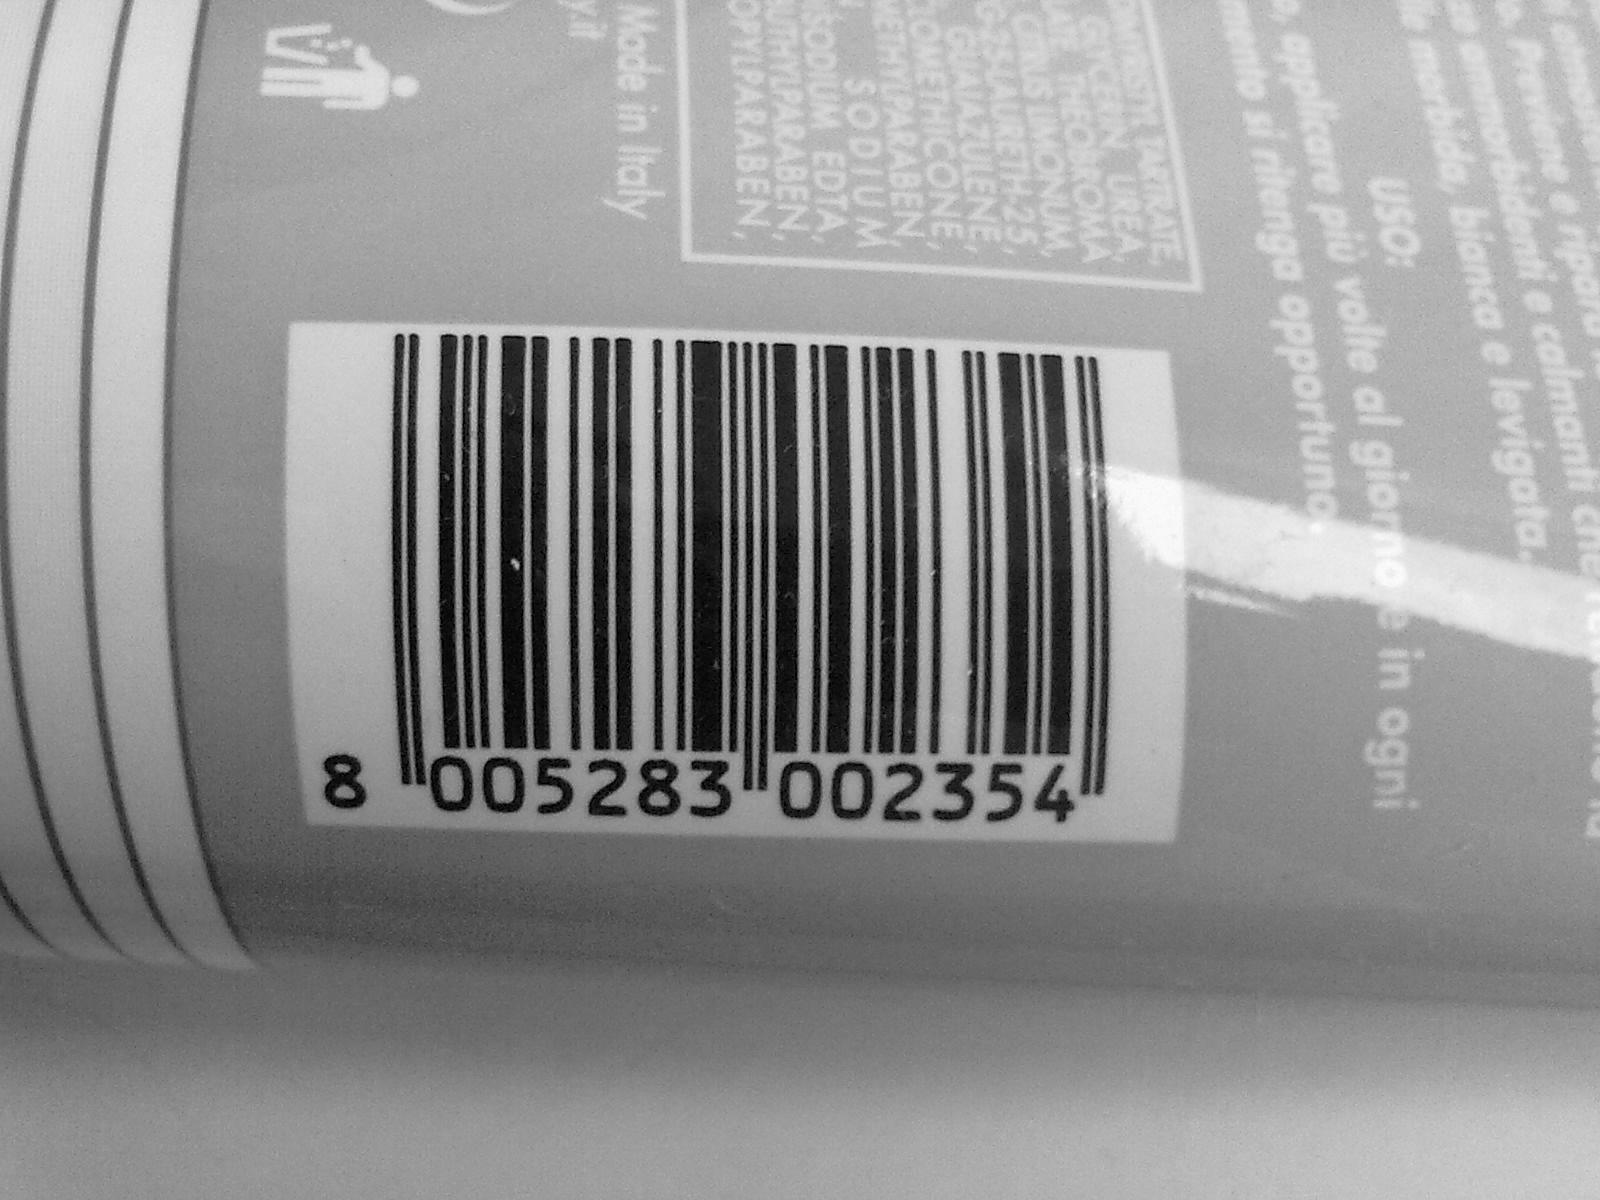Barcode: (335, 338, 1138, 811)
